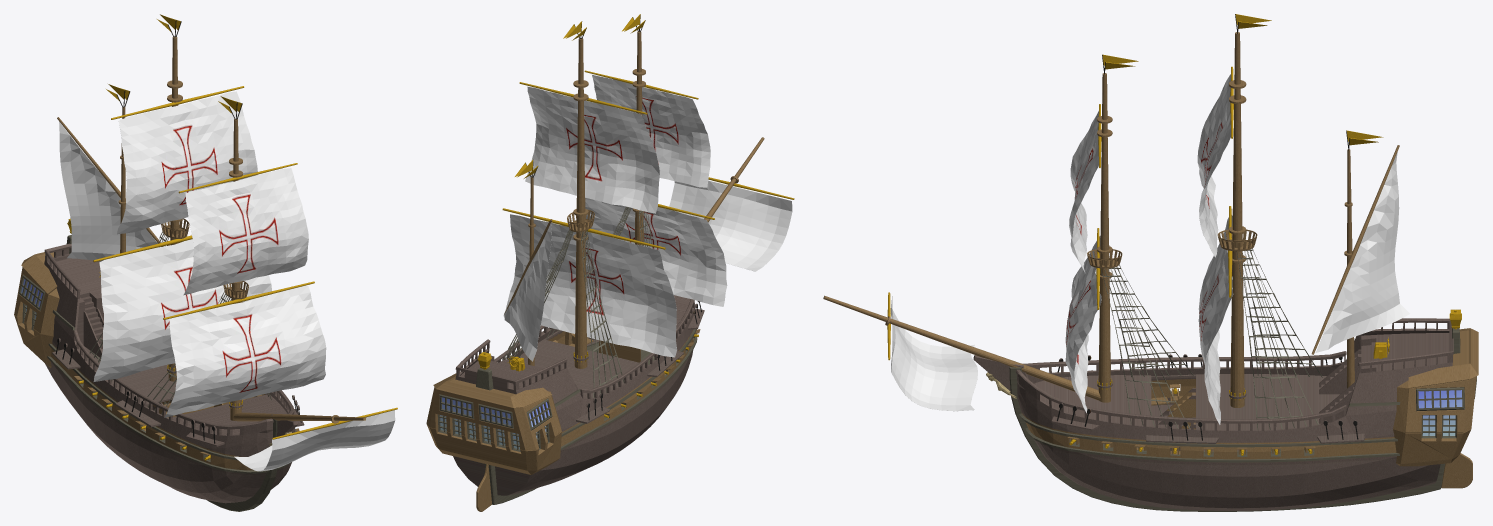
The model's file is ship.obj.
3 views of the same model, side by side, from view 1: azimuth 30°, elevation 25°; view 2: azimuth 150°, elevation 25°; view 3: azimuth 270°, elevation 25° (orthographic). The views are drawn at different scales.
Parts seen in each view (by area): view 1: Object3, Object7, Object12, Object6, Object9, Object11, Object2, Object15, Object16, Object, Object1, Object17 (+6 smaller); view 2: Object9, Object12, Object7, Object1, Object3, Object15, Object6, Object, Object16, Object2, Object17, Object11 (+7 smaller); view 3: Object7, Object2, Object, Object16, Object11, Object17, Object1, Object14, Object15, Object13, Object9, Object3 (+8 smaller).
Boxes of the visible parts, bbox=[...] form: Object3: bbox=[164, 286, 326, 417]; Object7: bbox=[45, 247, 299, 503]; Object12: bbox=[117, 91, 257, 234]; Object6: bbox=[183, 168, 308, 295]; Object9: bbox=[93, 239, 271, 381]; Object11: bbox=[59, 121, 157, 261]; Object2: bbox=[49, 258, 287, 434]; Object15: bbox=[234, 410, 395, 471]; Object16: bbox=[18, 235, 296, 511]; Object: bbox=[120, 36, 365, 421]; Object1: bbox=[14, 252, 59, 367]; Object17: bbox=[44, 80, 339, 459]; Object9: bbox=[503, 214, 676, 357]; Object12: bbox=[525, 86, 659, 213]; Object7: bbox=[453, 302, 700, 495]; Object1: bbox=[426, 371, 561, 474]; Object3: bbox=[585, 197, 727, 306]; Object15: bbox=[669, 180, 792, 271]; Object6: bbox=[592, 74, 710, 187]; Object: bbox=[528, 31, 764, 368]; Object16: bbox=[437, 329, 697, 504]; Object2: bbox=[461, 295, 690, 398]; Object17: bbox=[476, 69, 738, 511]; Object11: bbox=[504, 223, 551, 361]; Object7: bbox=[1017, 322, 1452, 510]; Object2: bbox=[1034, 333, 1449, 453]; Object: bbox=[823, 32, 1354, 407]; Object16: bbox=[1009, 328, 1476, 511]; Object11: bbox=[1316, 152, 1409, 352]; Object17: bbox=[885, 80, 1472, 488]; Object1: bbox=[1393, 328, 1478, 466]; Object14: bbox=[1100, 248, 1322, 430]; Object15: bbox=[891, 296, 977, 411]; Object13: bbox=[1016, 318, 1453, 430]; Object9: bbox=[1198, 215, 1233, 424]; Object3: bbox=[1065, 235, 1101, 413].
Bounding box in the file's own units: 20.51 × 49.75 × 59.53.
Materials: 23 (22 with a texture image).
